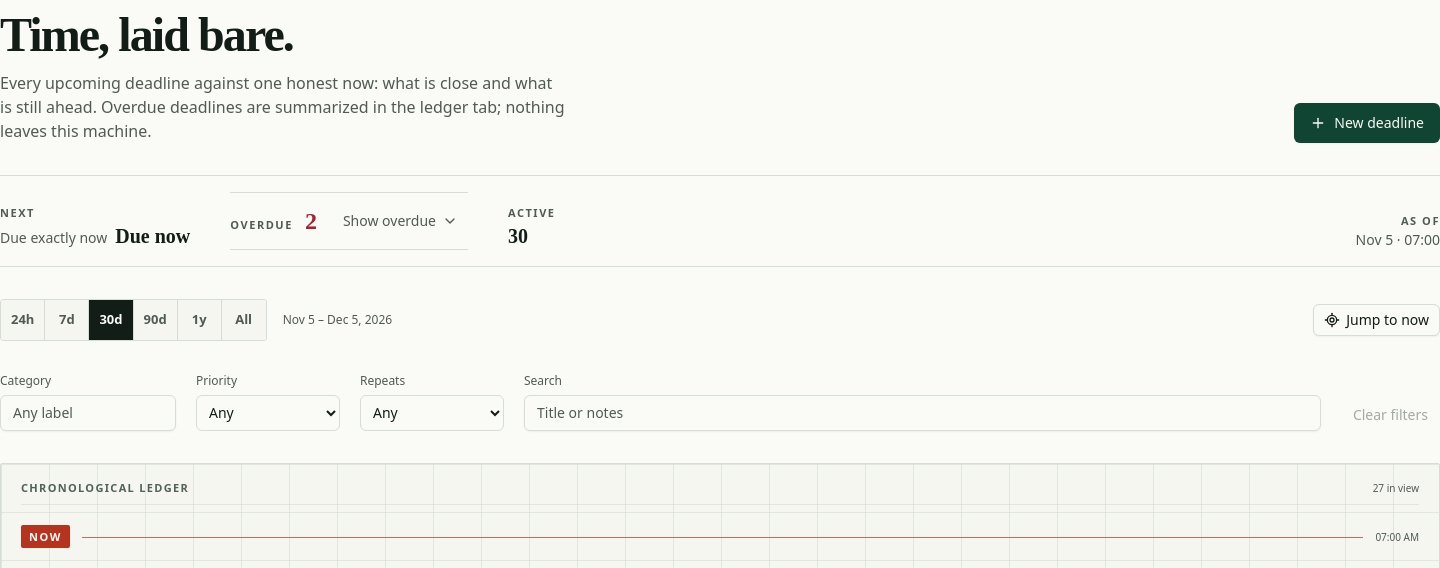
Scenario: TimelinePage US1 baseline › places overdue entries before the labelled now line and future entries after it
What coordinates should you click on to do the following:
click the button "Show overdue"
I would click on:
 (400, 220)
Its box is [333,200,468,240].
(page scrolled)
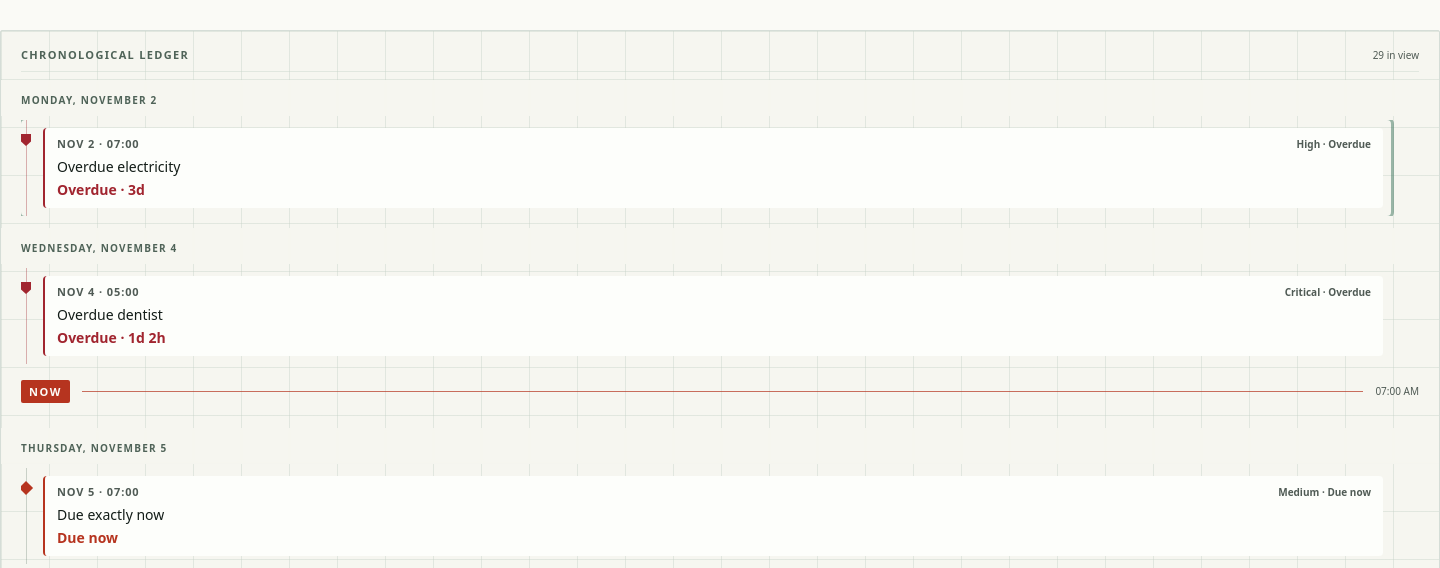
expect the button "Overdue electricity" is shown: met, box [21,120,1391,216]
